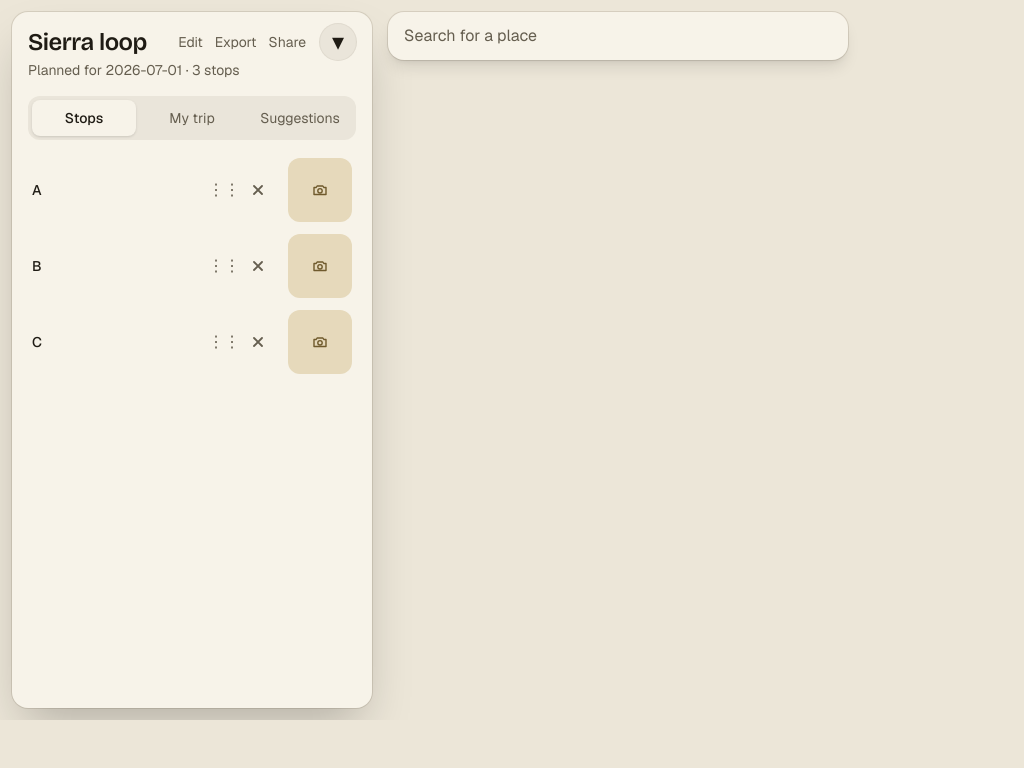
Test: TripEditor announcements and notes › announces an optimize result once: the notice speaks, the announcer stays quiet
Click the tab "My trip" at (192, 118), box [140, 100, 244, 136]
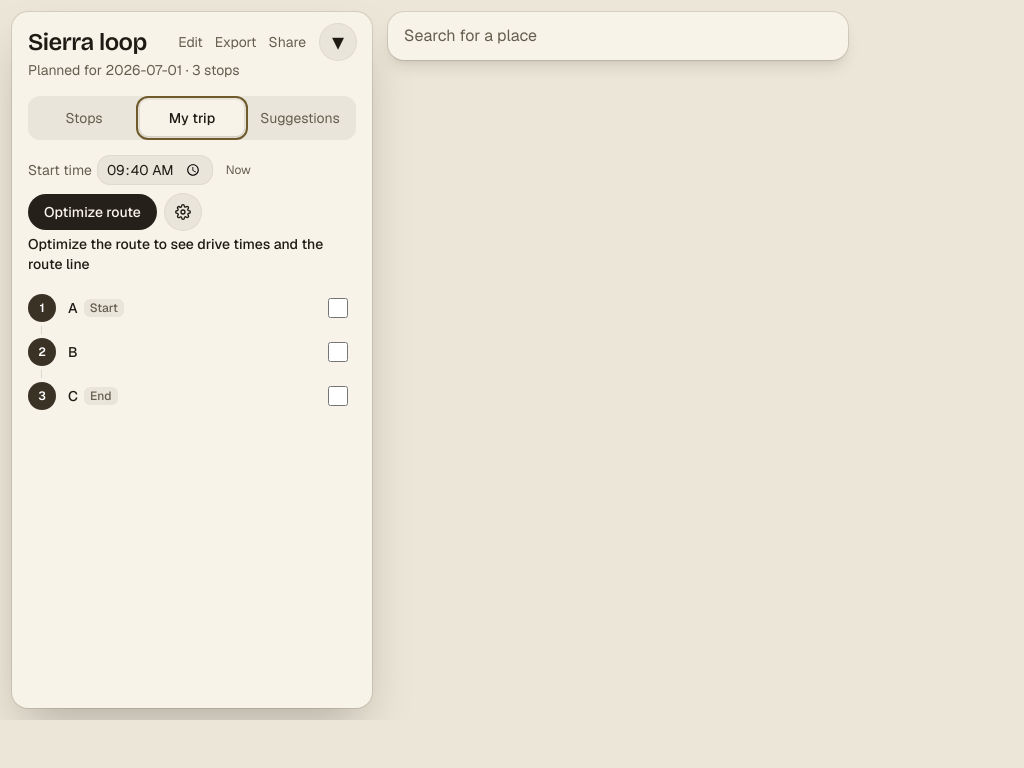
Click the button "Optimize route" at (92, 212), box [28, 194, 157, 230]
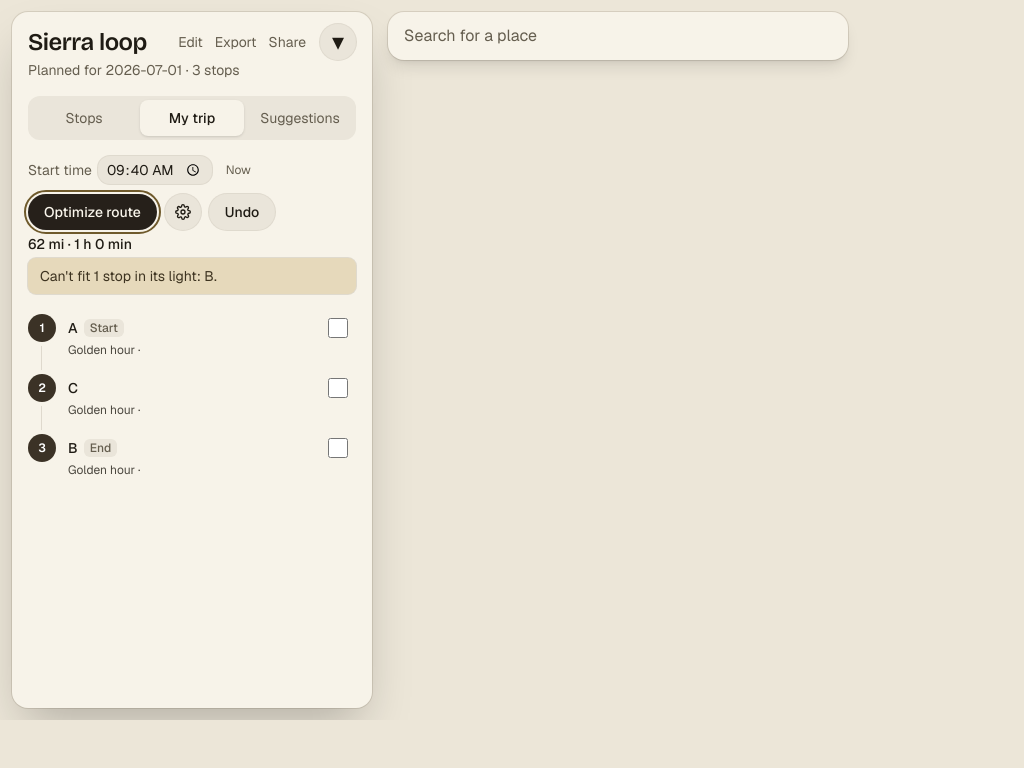
Now the message with test id "optimize-status" shows "Can't fit", box [40, 267, 214, 285]
